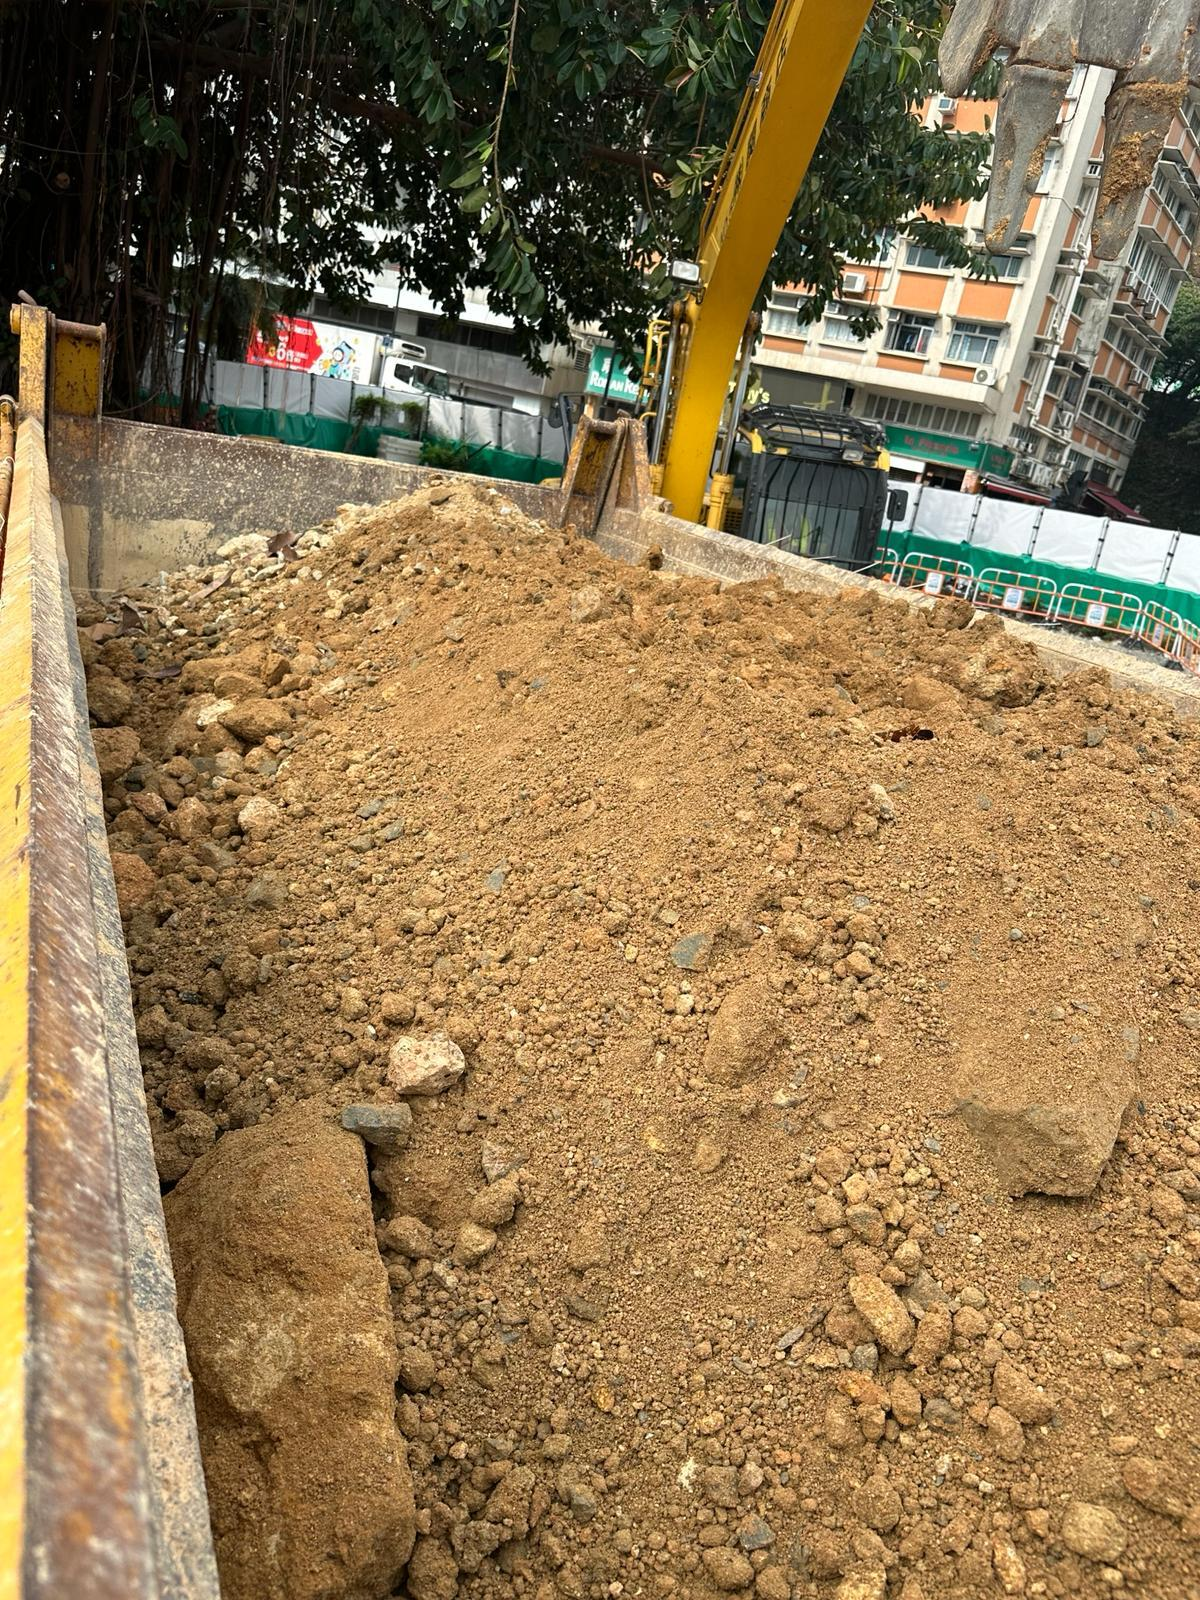dry: (95, 508, 1195, 1600)
